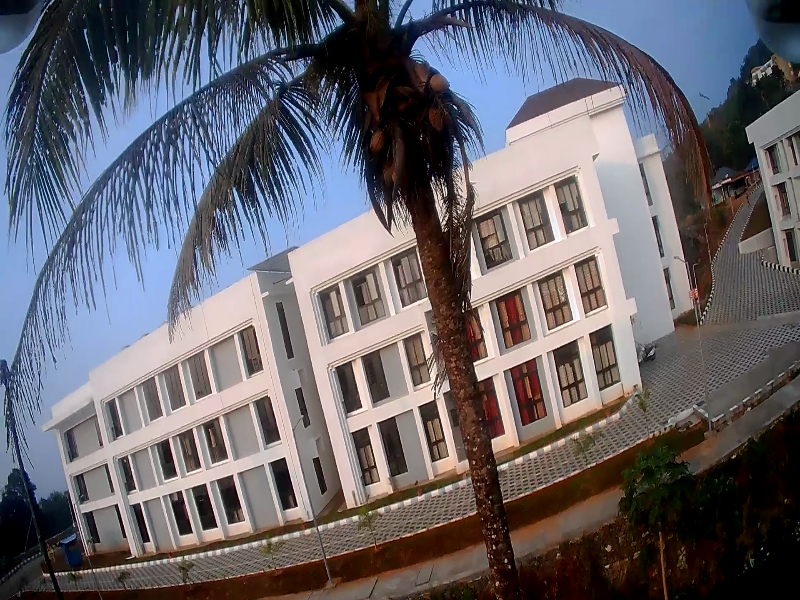coconut: (428, 73, 449, 94), (368, 133, 390, 151), (426, 109, 446, 126), (381, 166, 395, 181)
